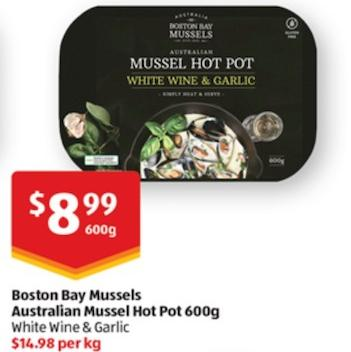description_block: (6, 283, 223, 333)
price_main: (6, 168, 146, 276)
product_image_block: (39, 4, 325, 184)
unit_price_block: (3, 333, 114, 352)
